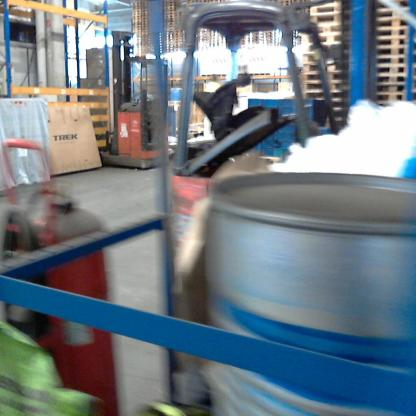forklift: (169, 0, 341, 413), (98, 29, 171, 171)
pallet: (309, 9, 352, 26), (310, 1, 351, 17), (374, 6, 416, 21), (373, 35, 416, 49), (304, 32, 352, 44), (372, 63, 416, 76), (373, 24, 416, 37), (305, 22, 351, 34), (300, 70, 350, 81), (374, 17, 416, 30), (302, 42, 350, 53), (302, 52, 350, 63), (302, 61, 350, 72), (372, 44, 416, 56), (373, 54, 416, 66), (302, 81, 350, 91), (372, 75, 416, 85), (302, 90, 350, 99), (373, 92, 416, 102), (372, 83, 416, 92), (324, 99, 350, 110), (257, 154, 282, 164), (325, 109, 347, 120), (132, 12, 142, 16), (164, 6, 174, 10), (132, 20, 141, 24), (132, 2, 141, 6), (197, 0, 208, 3), (209, 0, 220, 3), (133, 7, 141, 11), (132, 23, 142, 26), (164, 4, 174, 7), (164, 1, 174, 4), (164, 10, 174, 13), (164, 13, 174, 16), (164, 18, 174, 21), (164, 20, 174, 23), (132, 16, 141, 19), (132, 26, 141, 29), (165, 15, 174, 18), (174, 49, 183, 52), (174, 46, 183, 49), (174, 44, 183, 47), (174, 41, 183, 44), (174, 39, 183, 42), (174, 36, 183, 39), (174, 33, 183, 36), (174, 30, 183, 33), (133, 18, 141, 21), (133, 28, 141, 31), (132, 10, 141, 12), (132, 6, 141, 8)
pallet_truck: (2, 140, 121, 415)
